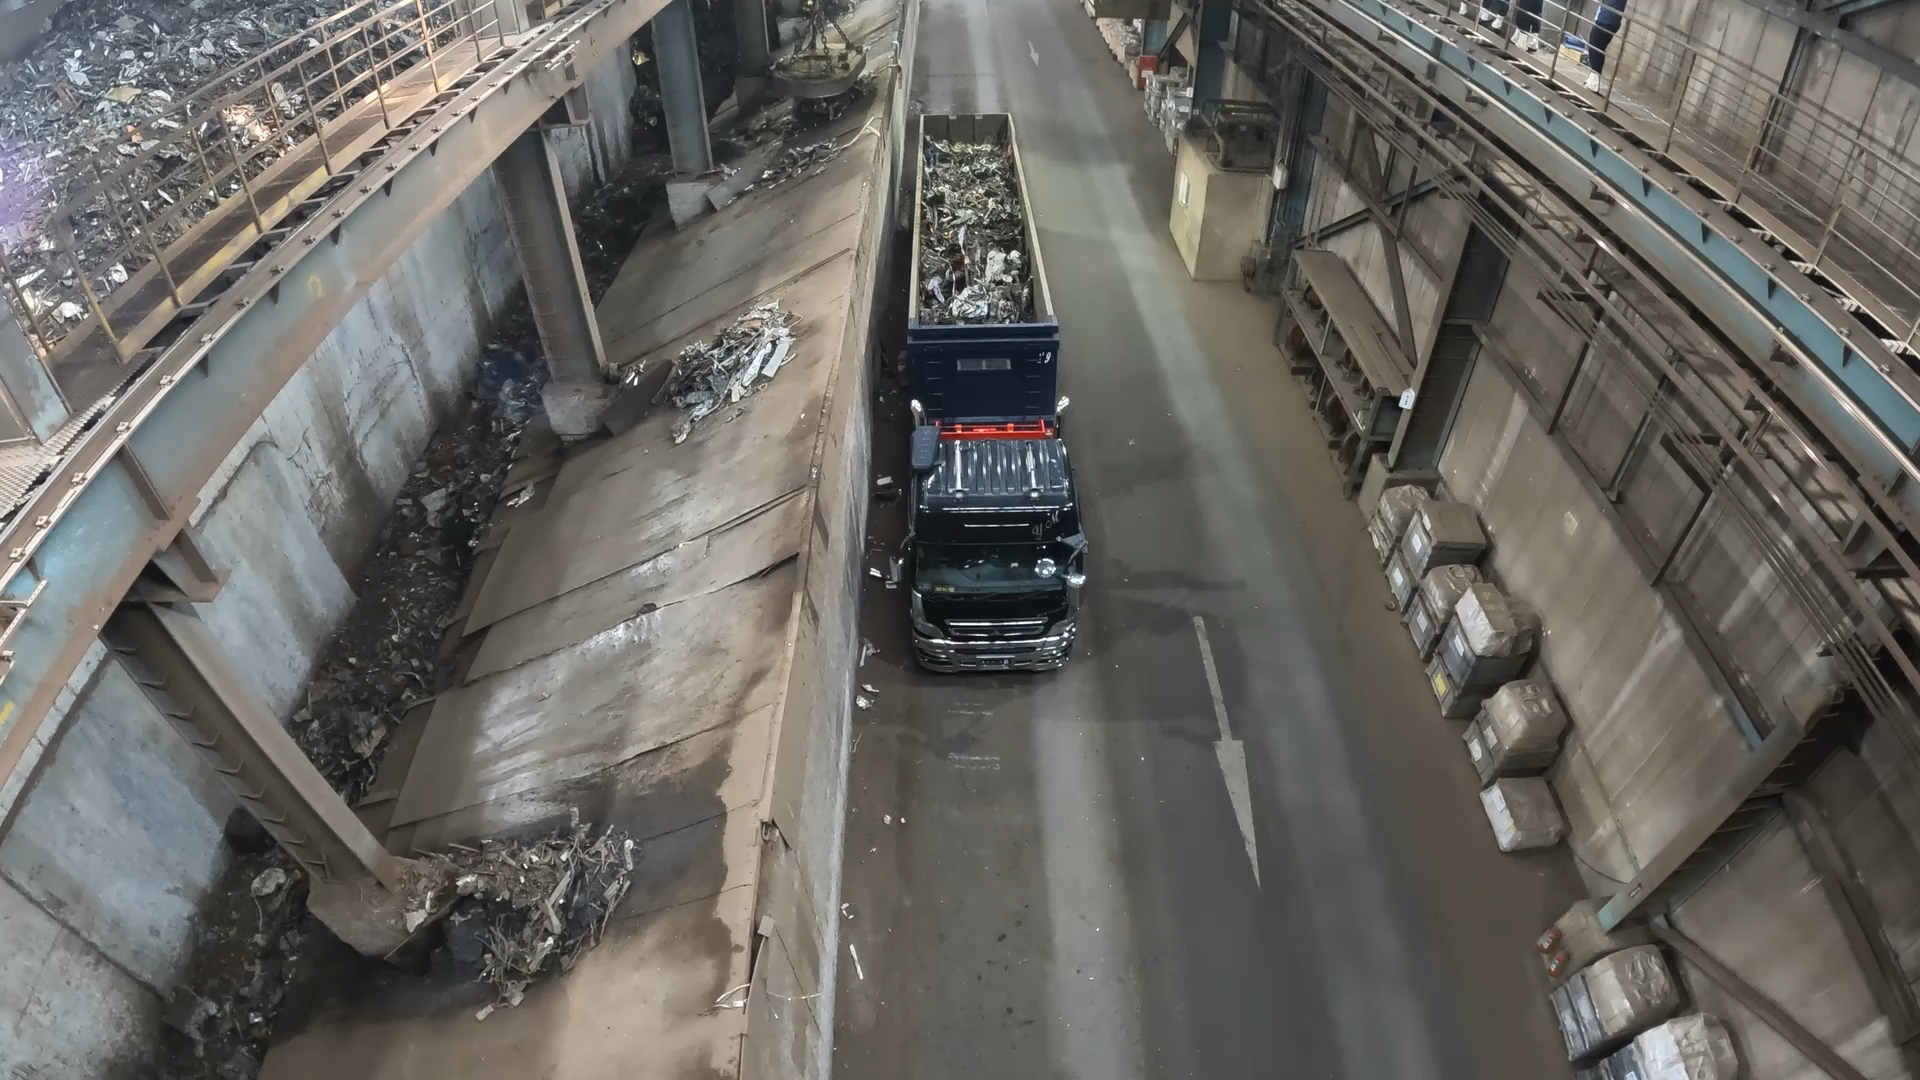truck: (913, 112, 1054, 327)
